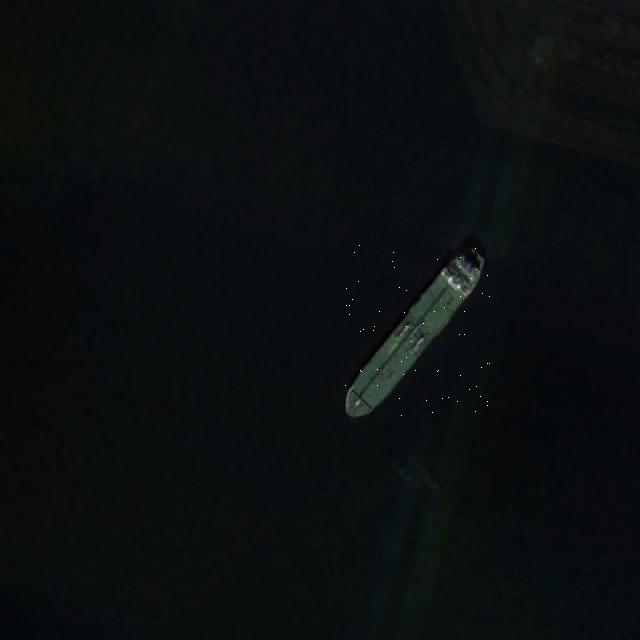boat: (342, 243, 490, 420)
